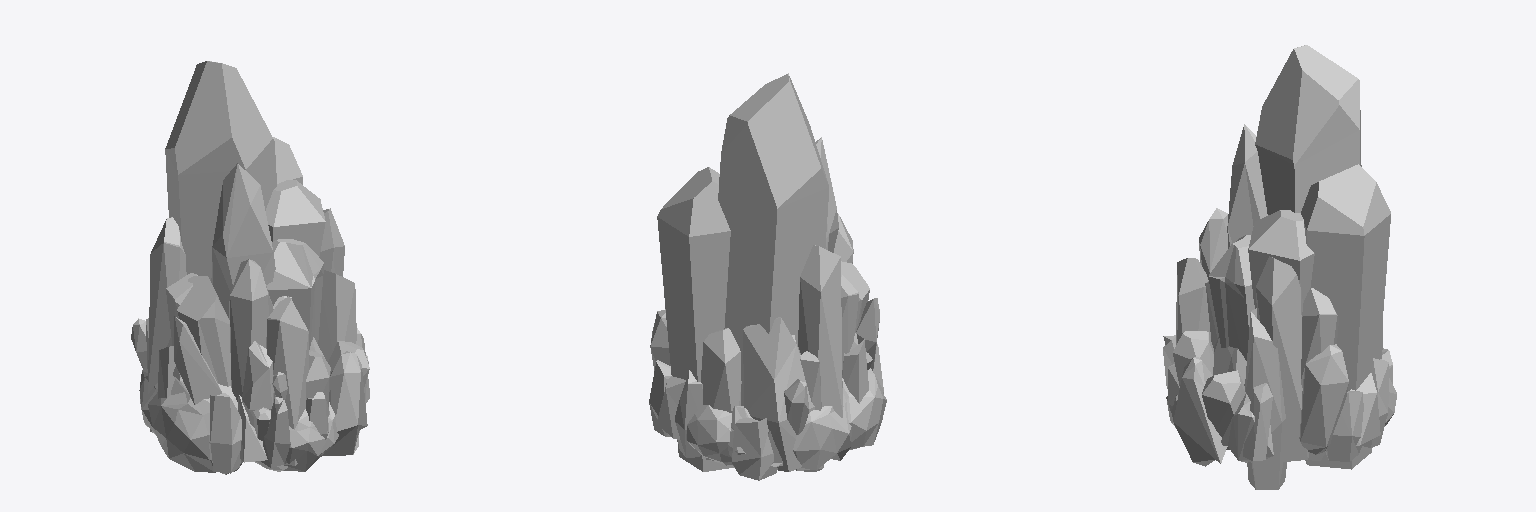
Rendered from Cristal1.obj.
The picture shows the model from 3 angles: view 1: azimuth 30°, elevation 25°; view 2: azimuth 150°, elevation 25°; view 3: azimuth 270°, elevation 25°; orthographic projection.
Parts seen in each view (by area): view 1: Object_13, Object_166, Object_10, Object_112, Object_106, Object_154, Object_157, Object_103, Object_169, Object_100, Object_43, Object_127 (+14 smaller); view 2: Object_13, Object_160, Object_142, Object_157, Object_148, Object_4, Object_88, Object_52, Object_10, Object_79, Object_133, Object_151 (+9 smaller); view 3: Object_160, Object_13, Object_31, Object_43, Object_73, Object_154, Object_169, Object_100, Object_166, Object_106, Object_70, Object_22 (+8 smaller).
Boxes of the visible parts, box(x1,y1,x2,y2) form: Object_13: box(165, 61, 276, 280); Object_166: box(211, 163, 275, 317); Object_10: box(148, 384, 242, 472); Object_112: box(229, 259, 273, 401); Object_106: box(266, 296, 309, 465); Object_154: box(266, 239, 323, 349); Object_157: box(148, 217, 186, 393); Object_103: box(177, 276, 242, 474); Object_169: box(266, 180, 325, 256); Object_100: box(321, 351, 367, 456); Object_43: box(318, 270, 356, 361); Object_127: box(209, 393, 241, 473); Object_13: box(718, 73, 828, 465); Object_160: box(657, 167, 734, 471); Object_142: box(743, 317, 814, 471); Object_157: box(798, 245, 842, 417); Object_148: box(701, 328, 741, 460); Object_4: box(793, 394, 851, 470); Object_88: box(732, 418, 777, 480); Object_52: box(686, 405, 731, 465); Object_10: box(842, 368, 886, 449); Object_79: box(675, 369, 702, 457); Object_133: box(842, 333, 868, 403); Object_151: box(841, 275, 858, 369); Object_160: box(1301, 164, 1390, 469); Object_13: box(1255, 45, 1361, 214); Object_31: box(1256, 256, 1308, 461); Object_43: box(1245, 308, 1286, 489); Object_73: box(1299, 344, 1348, 454); Object_154: box(1208, 235, 1254, 360); Object_169: box(1248, 210, 1314, 308); Object_100: box(1173, 357, 1227, 466); Object_166: box(1227, 124, 1267, 248); Object_106: box(1176, 258, 1210, 344); Object_70: box(1301, 288, 1338, 460); Object_22: box(1202, 370, 1245, 449).
Bounding box in the file's own units: 2.23 × 4.11 × 2.25.